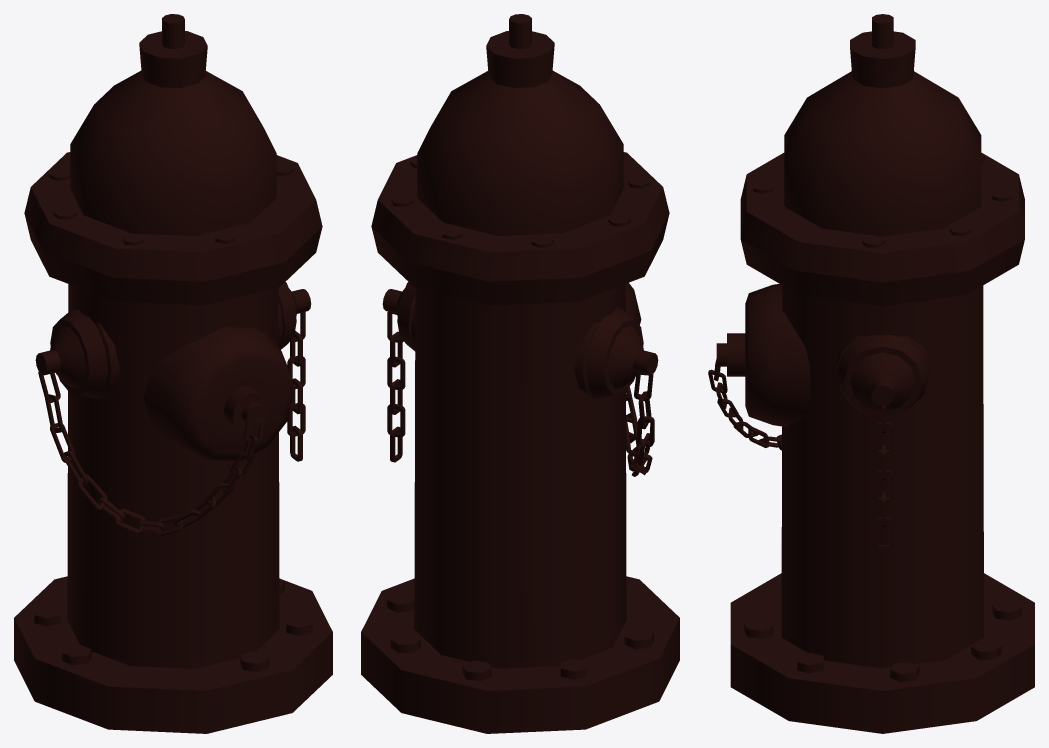
File: Hydrant.FBX
3 renders of one model, left to right at view 1: azimuth 30°, elevation 25°; view 2: azimuth 150°, elevation 25°; view 3: azimuth 270°, elevation 25°, orthographic.
Parts seen in each view (by area): view 1: Cylinder001; view 2: Cylinder001; view 3: Cylinder001.
Boxes of the visible parts, <box> form: Cylinder001: <box>14,14,332,733</box>; Cylinder001: <box>361,14,679,733</box>; Cylinder001: <box>708,14,1034,733</box>.
Bounding box in the file's own units: 53.31 × 119 × 54.48.
